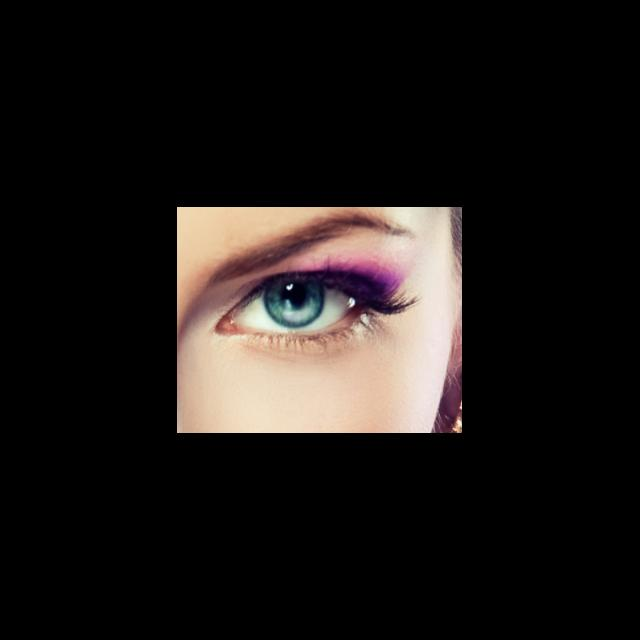eye: (234, 281, 357, 333)
iris: (265, 283, 324, 329)
